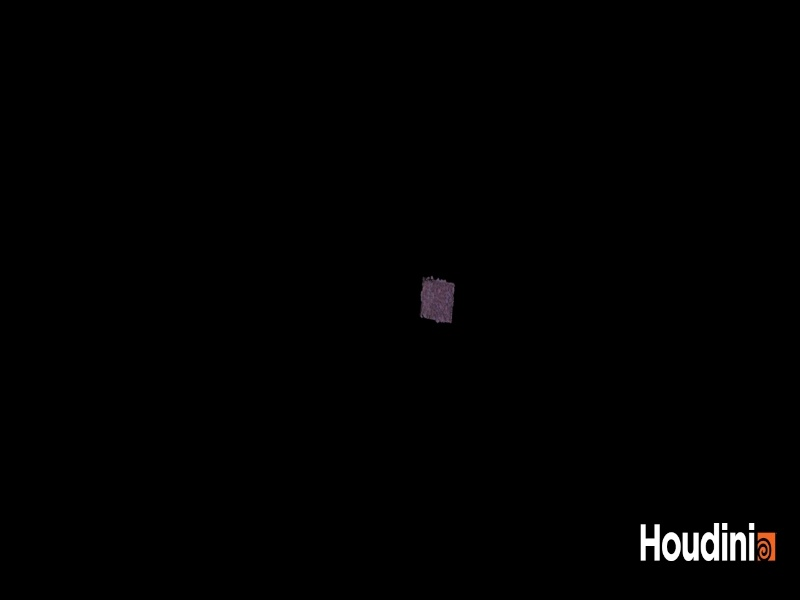waste: (408, 267, 462, 332)
